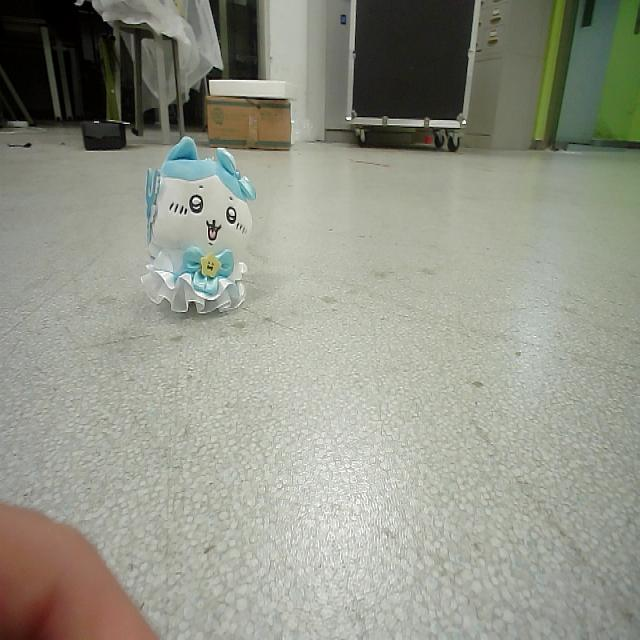xiaoba: (146, 139, 255, 318)
